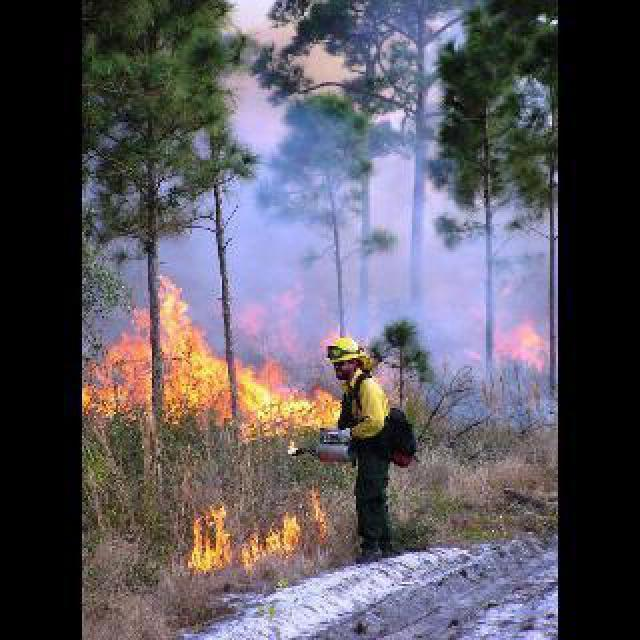Fire: (102, 282, 342, 434), (198, 478, 338, 572), (466, 296, 550, 372)
